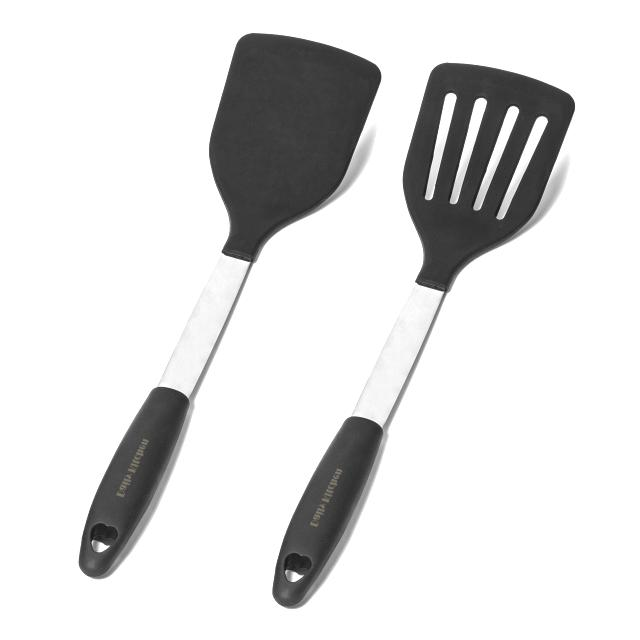Spatula: (239, 56, 585, 617), (62, 32, 386, 590)
